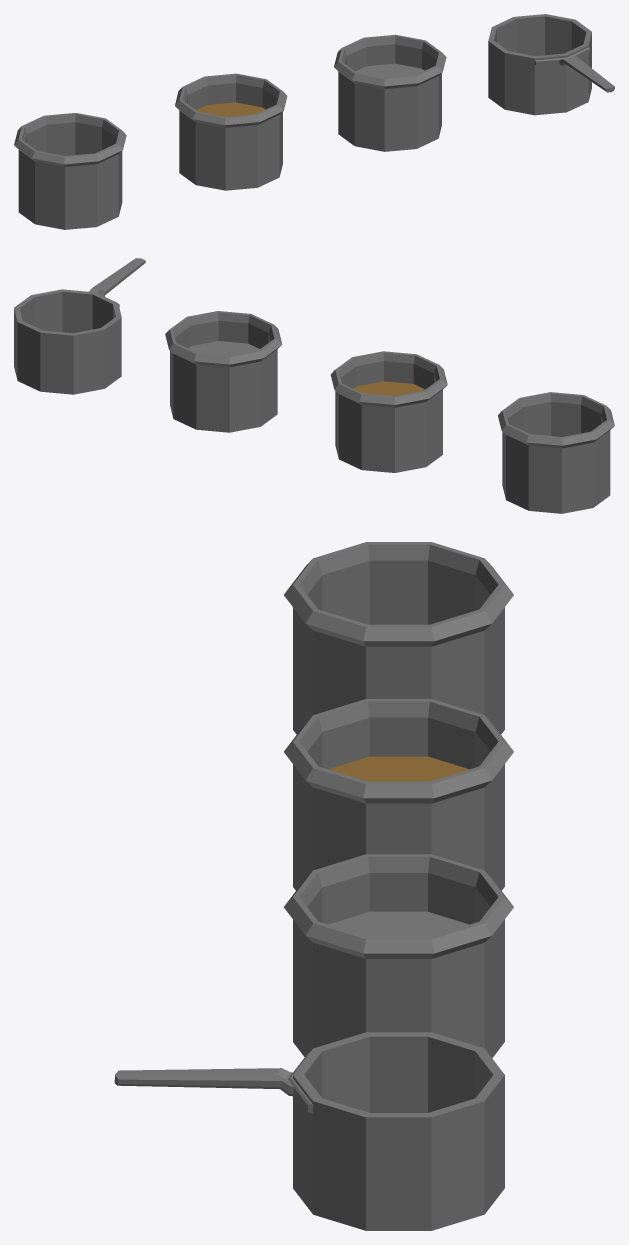
File: pot.fbx
3 views of the same model, one above another, from view 1: azimuth 30°, elevation 25°; view 2: azimuth 150°, elevation 25°; view 3: azimuth 270°, elevation 25° (orthographic). The views are drawn at different scales.
Parts seen in each view (by area): view 1: Cylinder.004, Cylinder.006, Cylinder.005, Cylinder.008; view 2: Cylinder.004, Cylinder.006, Cylinder.005, Cylinder.008; view 3: Cylinder.008, Cylinder.006, Cylinder.004, Cylinder.005.
Boxes of the visible parts, box(x1,y1,x2,y2) form: Cylinder.004: box(14, 113, 126, 229); Cylinder.006: box(334, 34, 446, 151); Cylinder.005: box(175, 73, 287, 190); Cylinder.008: box(488, 14, 614, 115); Cylinder.004: box(498, 392, 614, 513); Cylinder.006: box(165, 311, 282, 432); Cylinder.005: box(330, 351, 447, 472); Cylinder.008: box(14, 258, 145, 394); Cylinder.008: box(114, 1032, 504, 1230); Cylinder.006: box(284, 854, 513, 1058); Cylinder.004: box(284, 542, 513, 734); Cylinder.005: box(284, 699, 513, 890).
Size of the model in its own units: 304 by 37.66 by 93.88.
